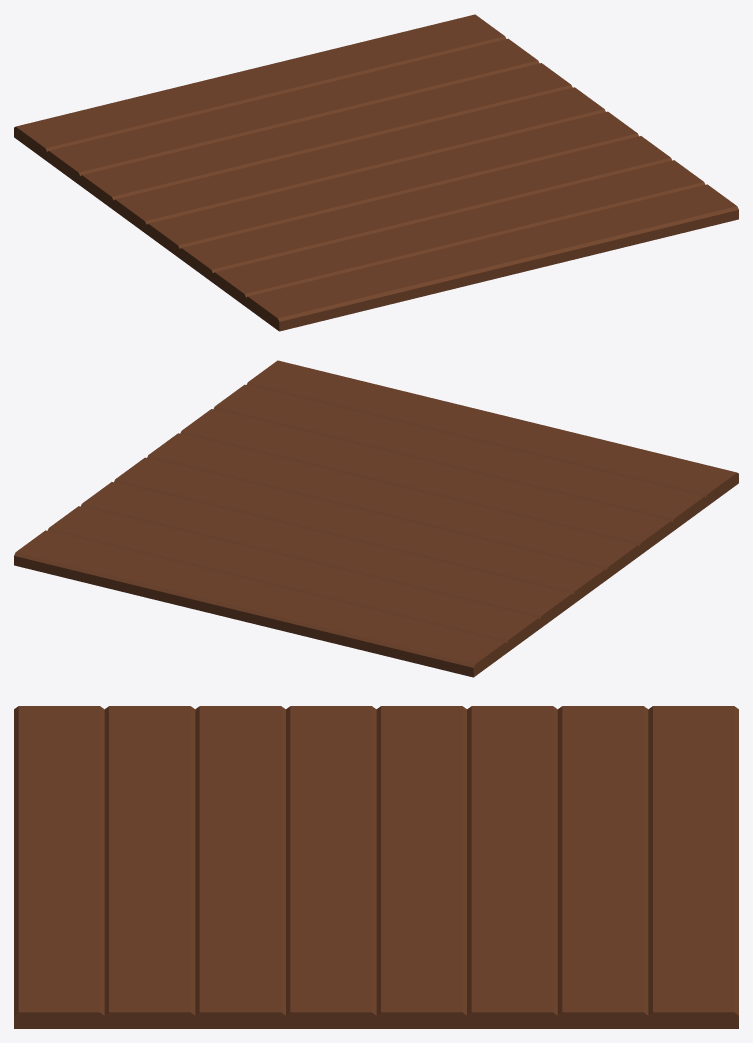
Rendered from Floor.fbx.
The picture shows the model from 3 angles, top to bottom: view 1: azimuth 30°, elevation 25°; view 2: azimuth 150°, elevation 25°; view 3: azimuth 270°, elevation 25°; orthographic projection. The views are drawn at different scales.
Visible parts, largest first — view 1: Floor 1; view 2: Floor 1; view 3: Floor 1.
Part boxes in pixels (left/top/right/bottom): Floor 1: left=14, top=14, right=738, bottom=331; Floor 1: left=14, top=360, right=738, bottom=677; Floor 1: left=14, top=706, right=738, bottom=1028.
Size of the model in its own units: 20 by 0.5 by 20.
